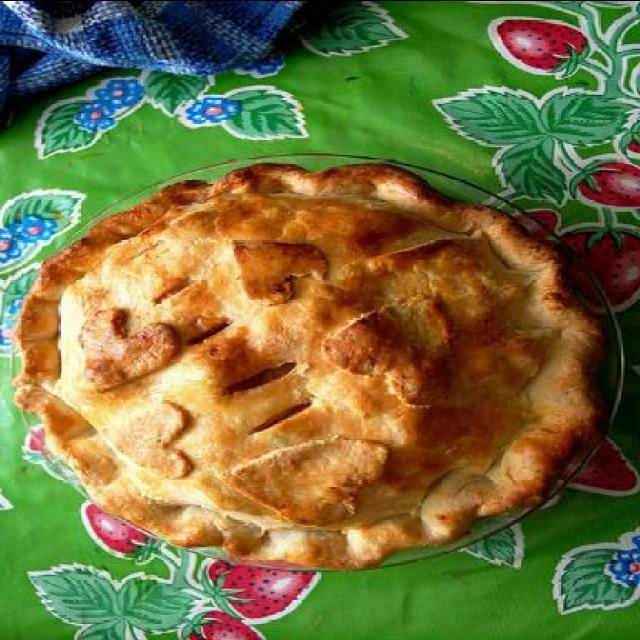Apple: (19, 164, 601, 567)
